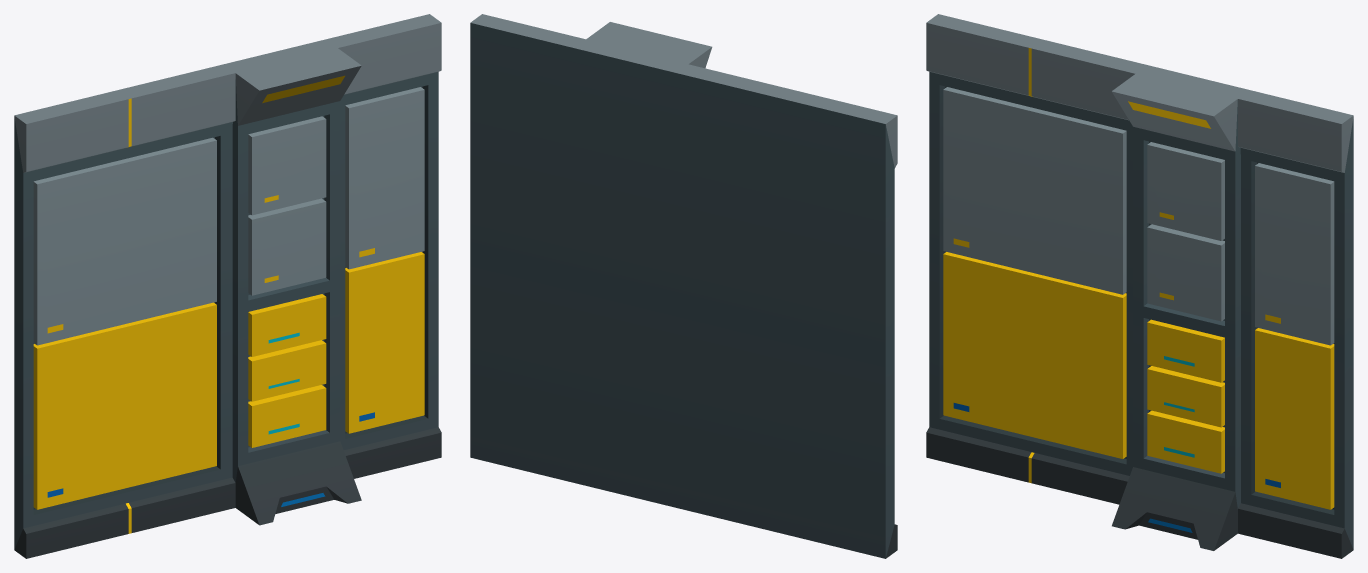
File: Wall_type_C_009.fbx
3 views of the same model, side by side, from view 1: azimuth 30°, elevation 25°; view 2: azimuth 150°, elevation 25°; view 3: azimuth 330°, elevation 25° (orthographic).
Visible parts, largest first — view 1: Wall_type_C_009; view 2: Wall_type_C_009; view 3: Wall_type_C_009.
Boxes of the visible parts, x1,y1,x2,y2 form: Wall_type_C_009: (14,14,441,558); Wall_type_C_009: (470,14,897,558); Wall_type_C_009: (926,14,1353,558).
Bounding box in the file's own units: 400 × 60 × 400.
